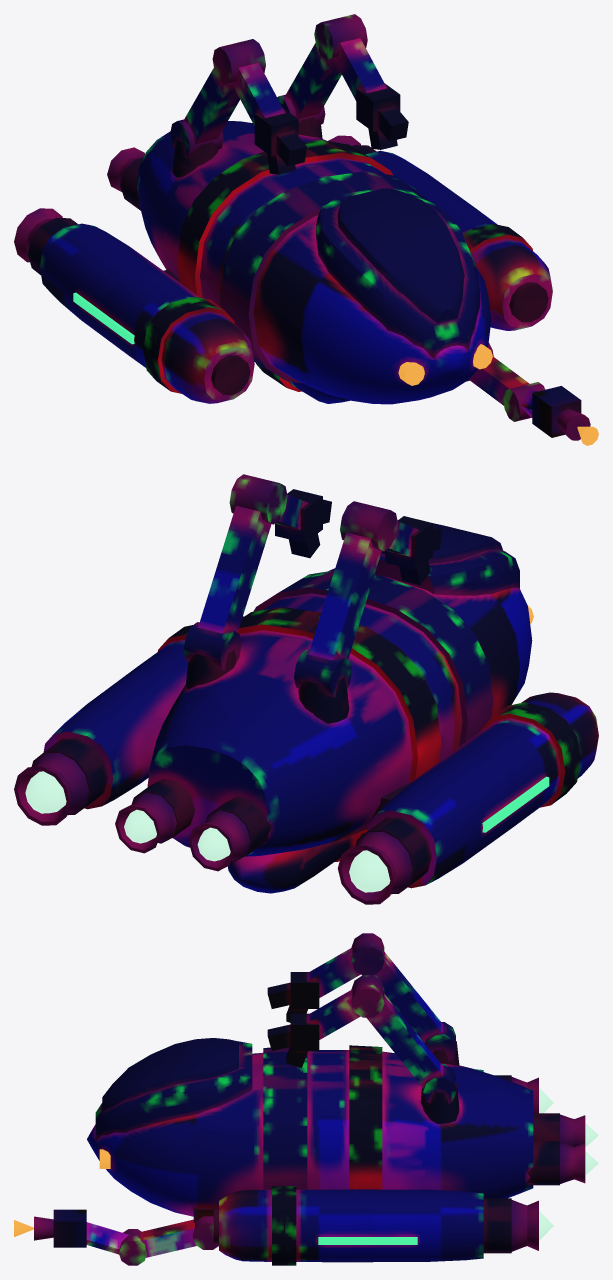
File: repair_drone_wreck.glb
The picture shows the model from 3 angles, top to bottom: view 1: azimuth 30°, elevation 25°; view 2: azimuth 150°, elevation 25°; view 3: azimuth 270°, elevation 25°; orthographic projection. The views are drawn at different scales.
Visible parts, largest first — view 1: repair_drone_wreck_03, repair_drone_wreck_00, repair_drone_wreck_01, repair_drone_wreck_02, repair_drone_wreck_05, repair_drone_wreck_07, repair_drone_wreck_04, repair_drone_wreck_08, repair_drone_wreck_06; view 2: repair_drone_wreck_02, repair_drone_wreck_00, repair_drone_wreck_01, repair_drone_wreck_04, repair_drone_wreck_08, repair_drone_wreck_03, repair_drone_wreck_06, repair_drone_wreck_05; view 3: repair_drone_wreck_00, repair_drone_wreck_04, repair_drone_wreck_05, repair_drone_wreck_03, repair_drone_wreck_08, repair_drone_wreck_02, repair_drone_wreck_07.
Boxes of the visible parts, bbox=[...] form: repair_drone_wreck_03: bbox=[308, 226, 492, 404]; repair_drone_wreck_00: bbox=[209, 14, 460, 247]; repair_drone_wreck_01: bbox=[95, 222, 315, 403]; repair_drone_wreck_02: bbox=[14, 77, 287, 340]; repair_drone_wreck_05: bbox=[437, 198, 552, 382]; repair_drone_wreck_07: bbox=[480, 355, 598, 445]; repair_drone_wreck_04: bbox=[280, 83, 462, 205]; repair_drone_wreck_08: bbox=[107, 121, 253, 206]; repair_drone_wreck_06: bbox=[193, 277, 349, 403]; repair_drone_wreck_02: bbox=[215, 573, 510, 904]; repair_drone_wreck_00: bbox=[209, 474, 477, 653]; repair_drone_wreck_01: bbox=[431, 596, 598, 839]; repair_drone_wreck_04: bbox=[14, 592, 262, 889]; repair_drone_wreck_08: bbox=[115, 691, 260, 882]; repair_drone_wreck_03: bbox=[433, 523, 533, 695]; repair_drone_wreck_06: bbox=[247, 732, 455, 893]; repair_drone_wreck_05: bbox=[125, 616, 243, 681]; repair_drone_wreck_00: bbox=[171, 933, 429, 1139]; repair_drone_wreck_04: bbox=[337, 1050, 553, 1261]; repair_drone_wreck_05: bbox=[173, 1129, 380, 1265]; repair_drone_wreck_03: bbox=[87, 1039, 200, 1225]; repair_drone_wreck_08: bbox=[472, 1087, 598, 1198]; repair_drone_wreck_02: bbox=[336, 972, 553, 1113]; repair_drone_wreck_07: bbox=[14, 1162, 178, 1265].
Size of the model in its own units: 3.35 by 2.87 by 5.31.
12 materials, 9 textured.
